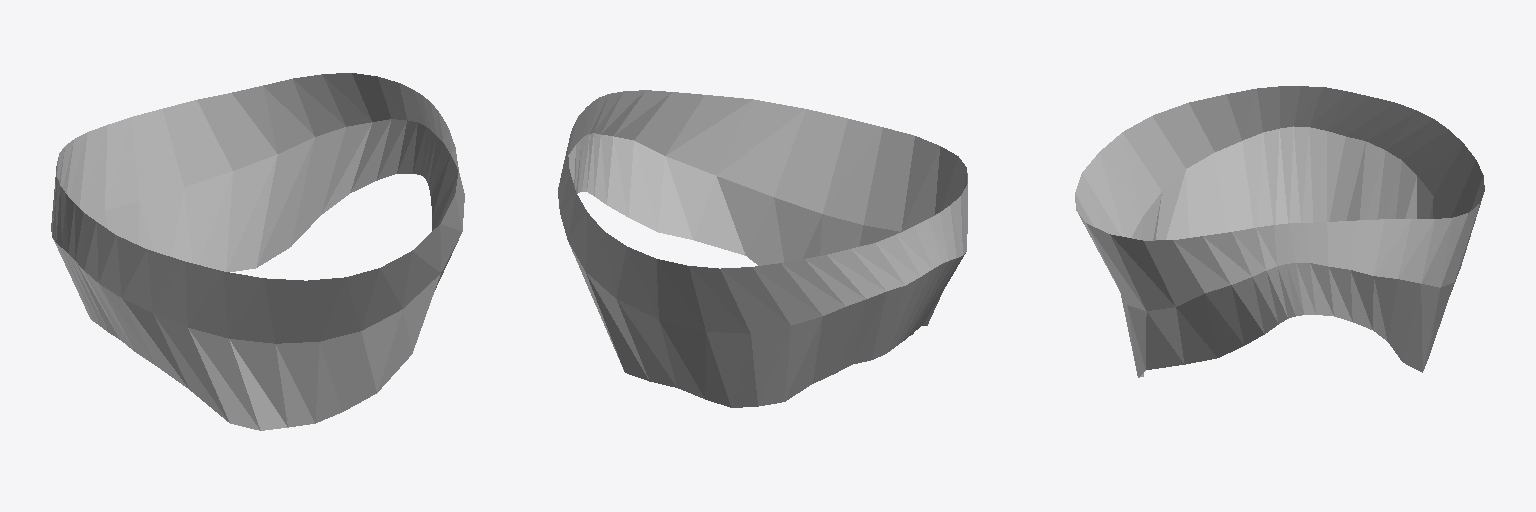
File: Inner_Eyelid_L.obj
3 renders of one model, left to right at view 1: azimuth 30°, elevation 25°; view 2: azimuth 150°, elevation 25°; view 3: azimuth 270°, elevation 25°, orthographic.
Visible parts, largest first — view 1: Inner_Eyelid_L; view 2: Inner_Eyelid_L; view 3: Inner_Eyelid_L.
Boxes of the visible parts, x1=… form: Inner_Eyelid_L: x1=51, y1=73, x2=464, y2=430; Inner_Eyelid_L: x1=558, y1=90, x2=967, y2=407; Inner_Eyelid_L: x1=1075, y1=86, x2=1484, y2=377.
Bounding box in the file's own units: 0.0269 × 0.0164 × 0.0264.